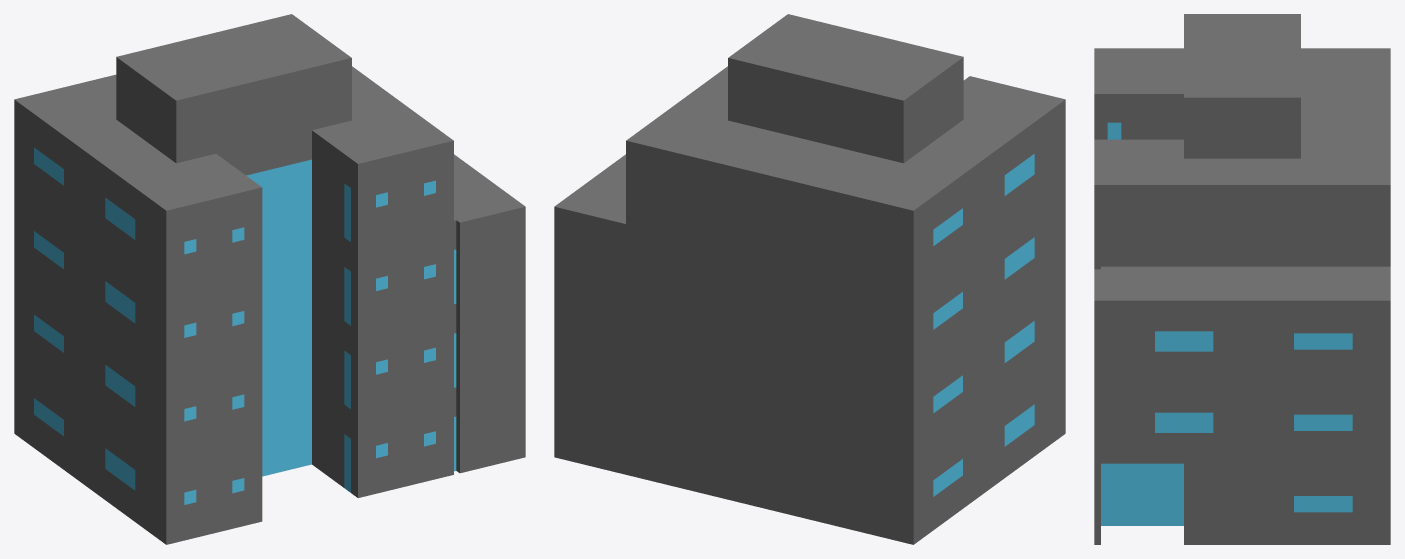
The model's file is DaSan.glb.
3 views of the same model, side by side, from view 1: azimuth 30°, elevation 25°; view 2: azimuth 150°, elevation 25°; view 3: azimuth 270°, elevation 25° (orthographic). The views are drawn at different scales.
Visible parts, largest first — view 1: Main, Window; view 2: Main, Window; view 3: Main, Window.
Boxes of the visible parts, x1,y1,x2,y2 form: Main: (14,14,525,544); Window: (34,147,456,504); Main: (554,14,1065,544); Window: (933,154,1034,496); Main: (1094,14,1390,544); Window: (1101,122,1352,525).
Size of the model in its own units: 18 by 19 by 13.2.
